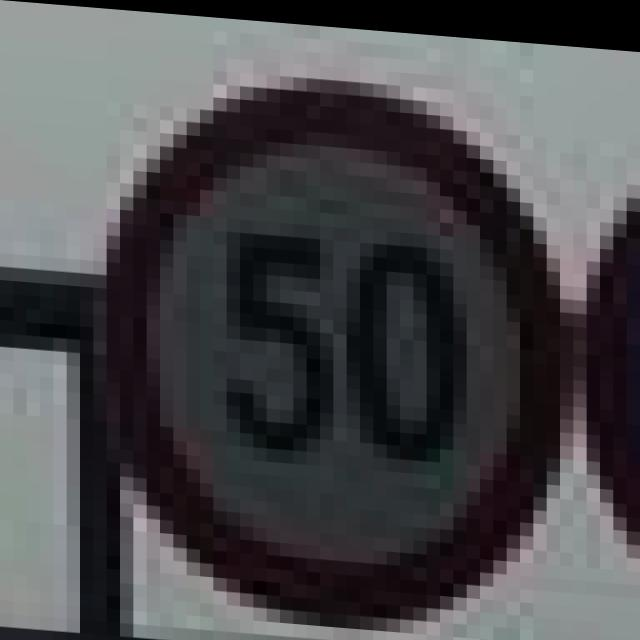SPEED_LIMIT_50: (114, 57, 557, 636)
